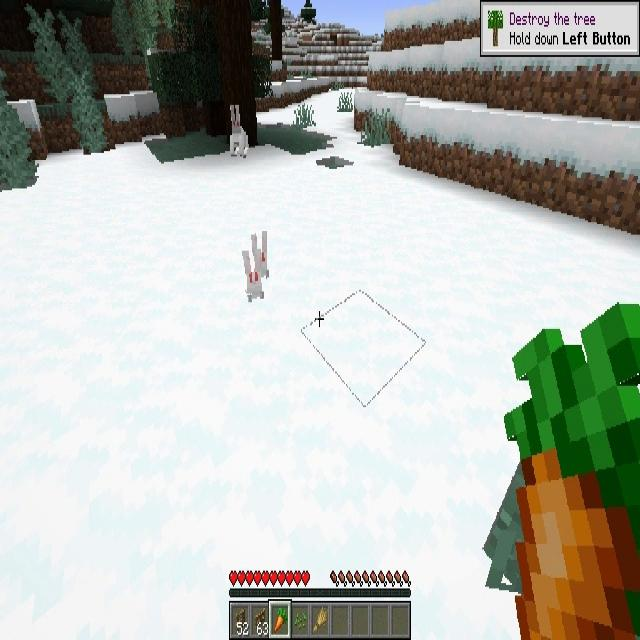rabbit: (243, 250, 263, 304), (230, 105, 249, 156), (251, 232, 267, 278)
